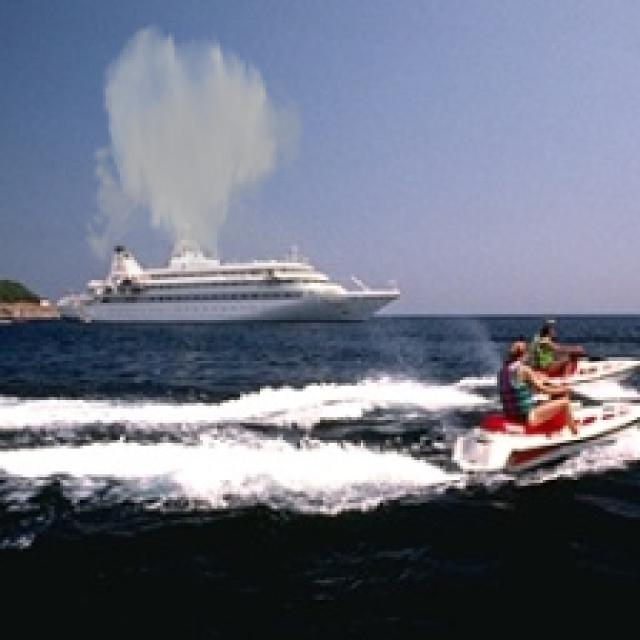smoke: (77, 20, 312, 289)
